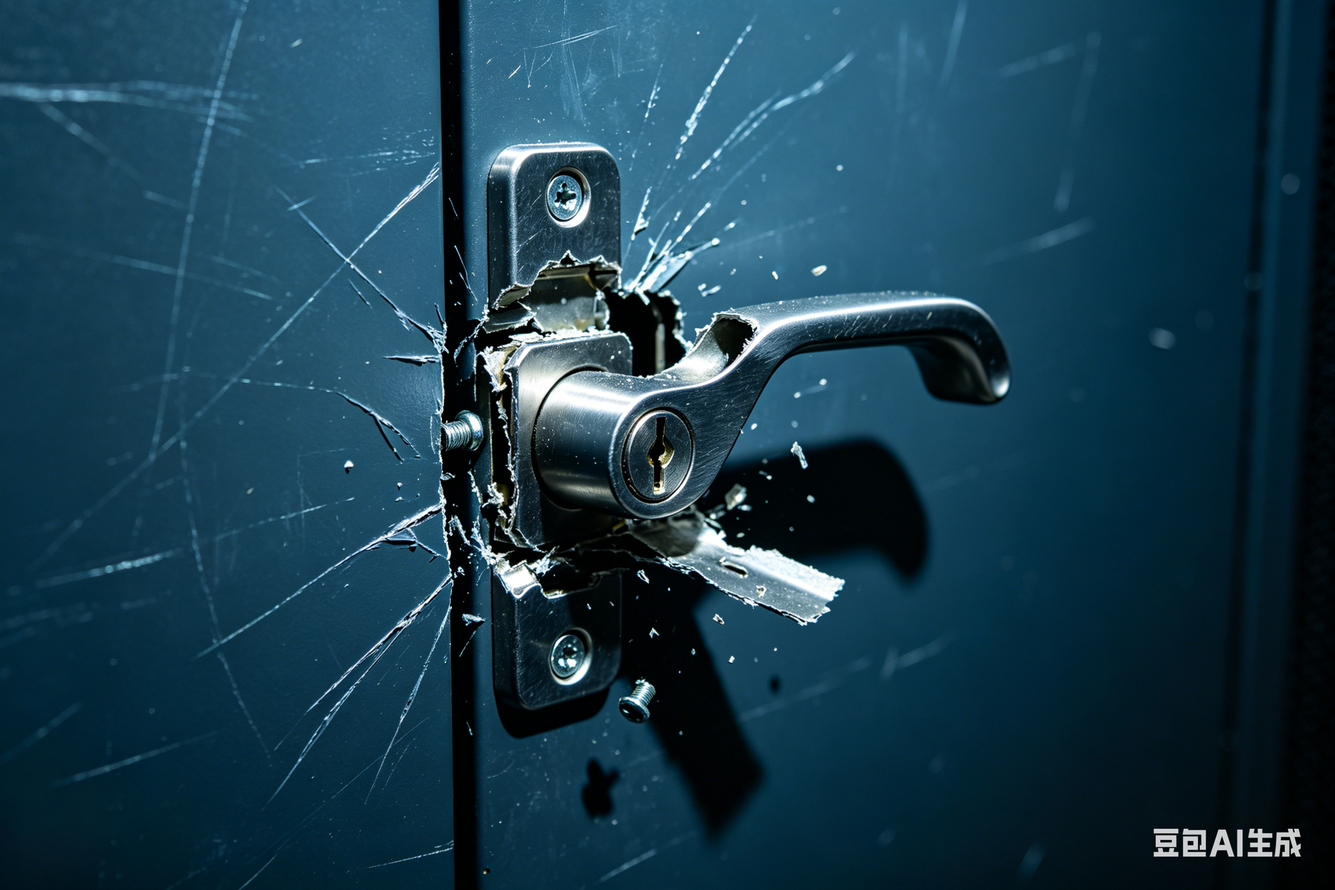BadLock: (433, 273, 685, 617)
